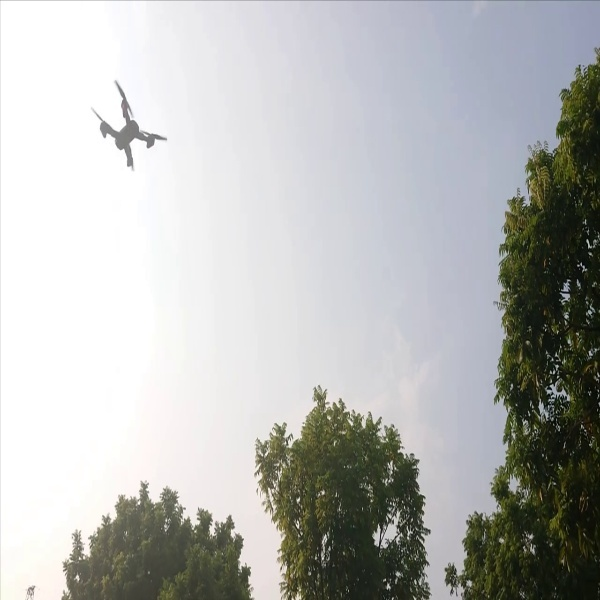drone: (85, 84, 174, 183)
